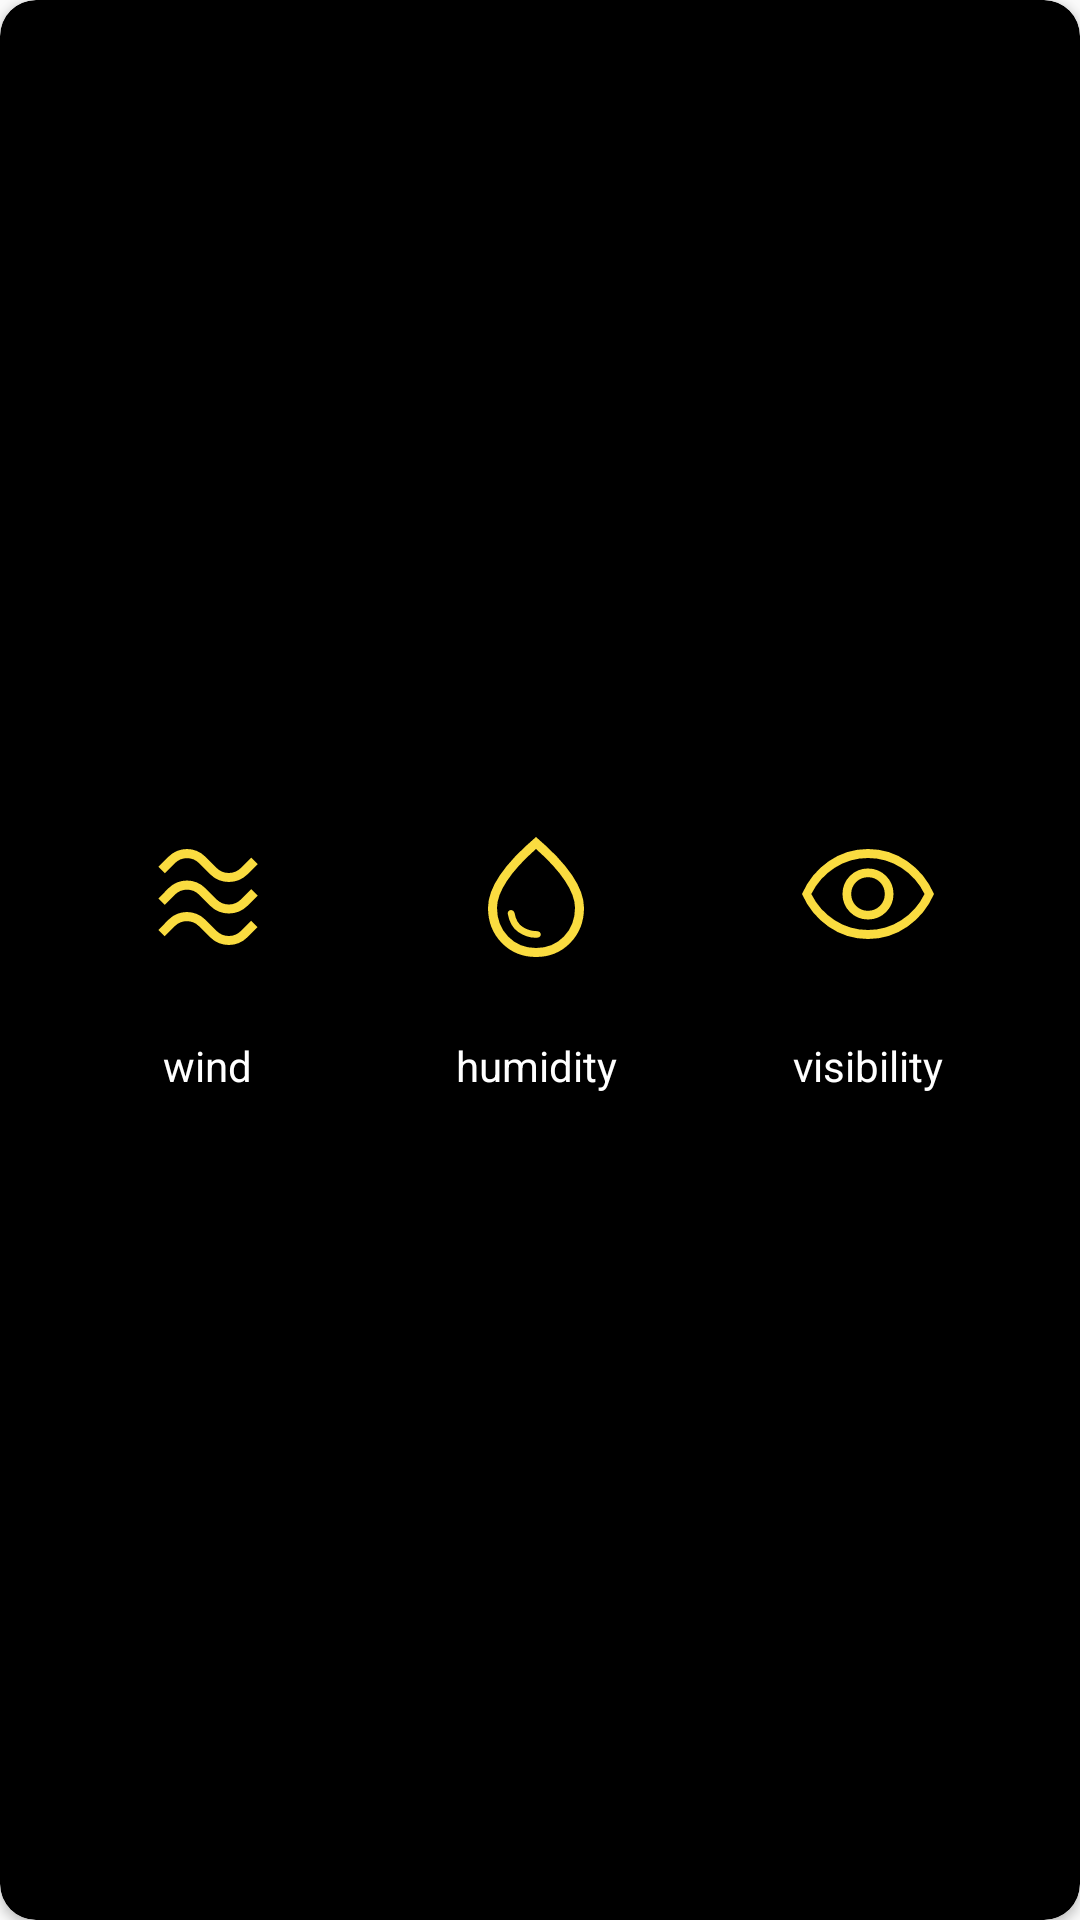

Where to tap for icons on this 1080×1920 app screen, as [x,y]:
airewave: [208,897]
water drop: [536,897]
